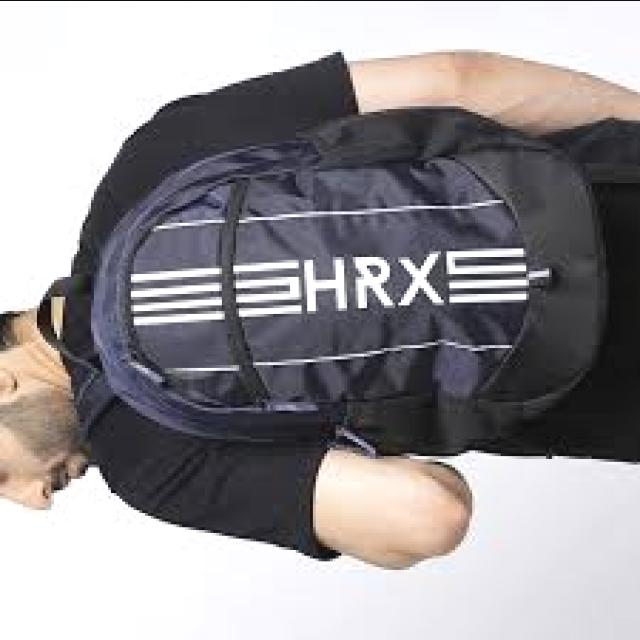backpack: (50, 104, 619, 462)
